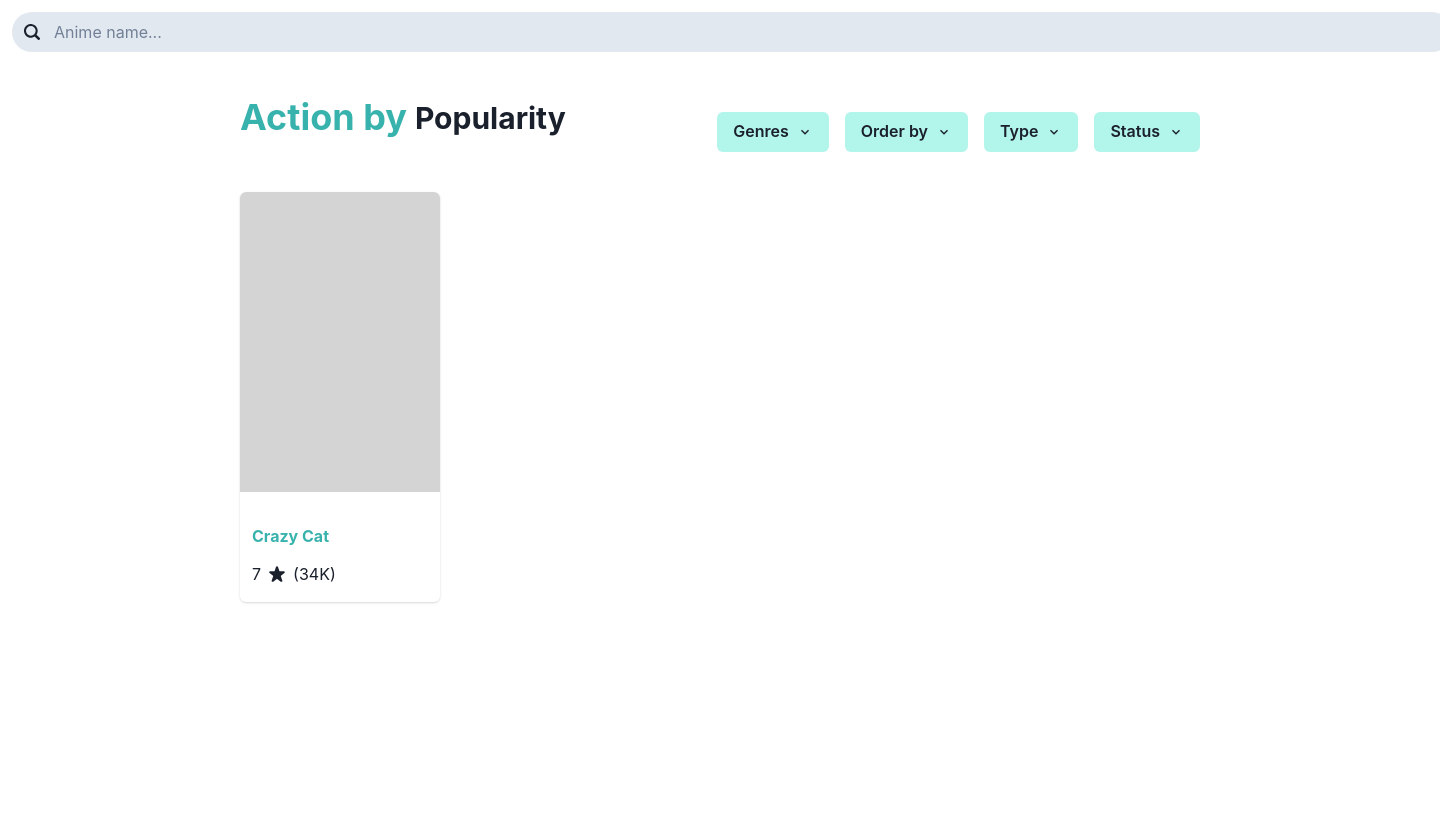
Test: AnimeHeading › should change status to movie if type was changed
Step 1. Click the button "Type" → click(1031, 132), box [984, 112, 1078, 152]
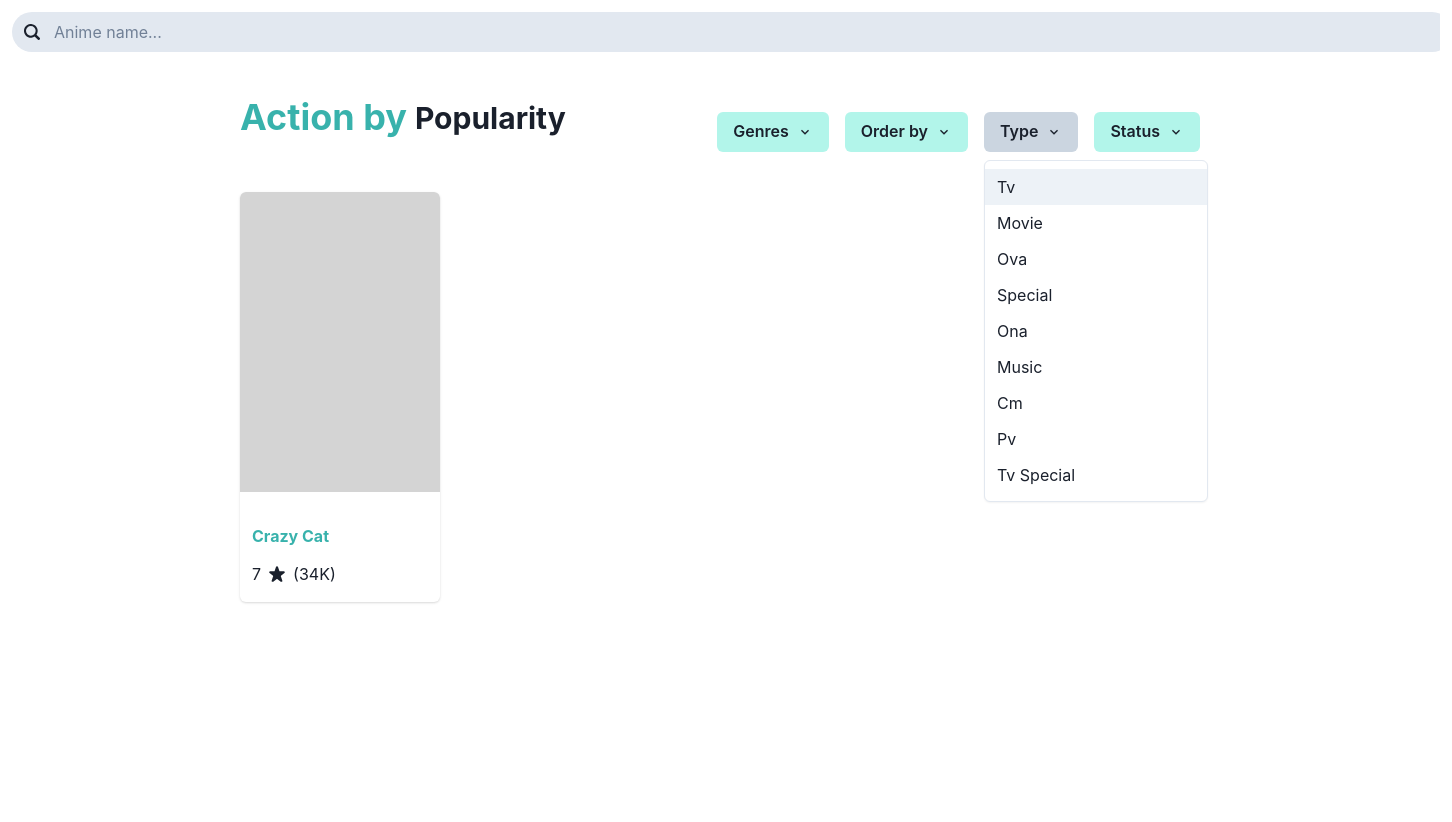
Step 2. Click the menu item labelled "Movie" → click(1096, 223), box [985, 205, 1207, 241]
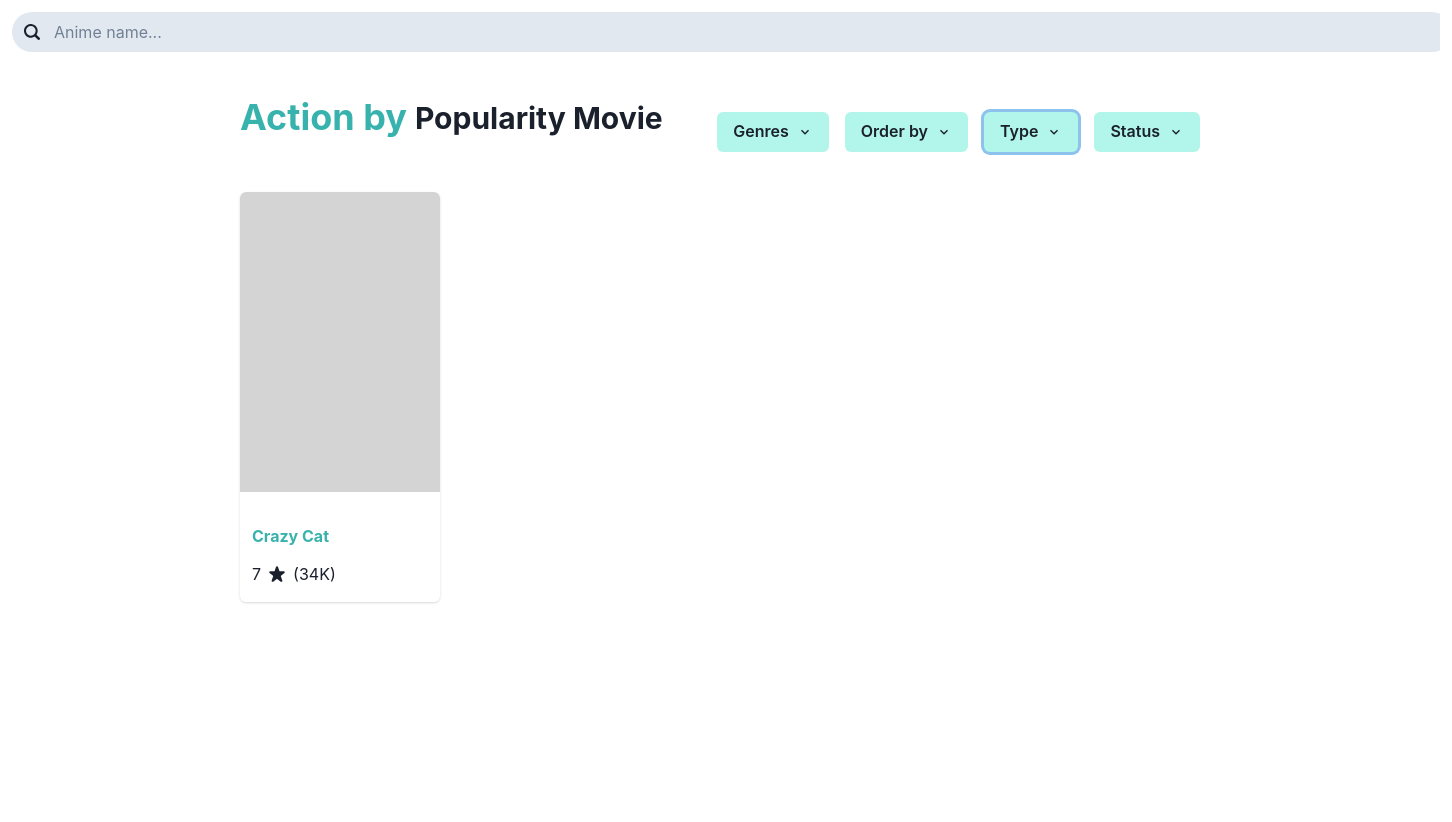
Check: the heading named "secondary-heading" shows "Movie", box [415, 100, 663, 136]
